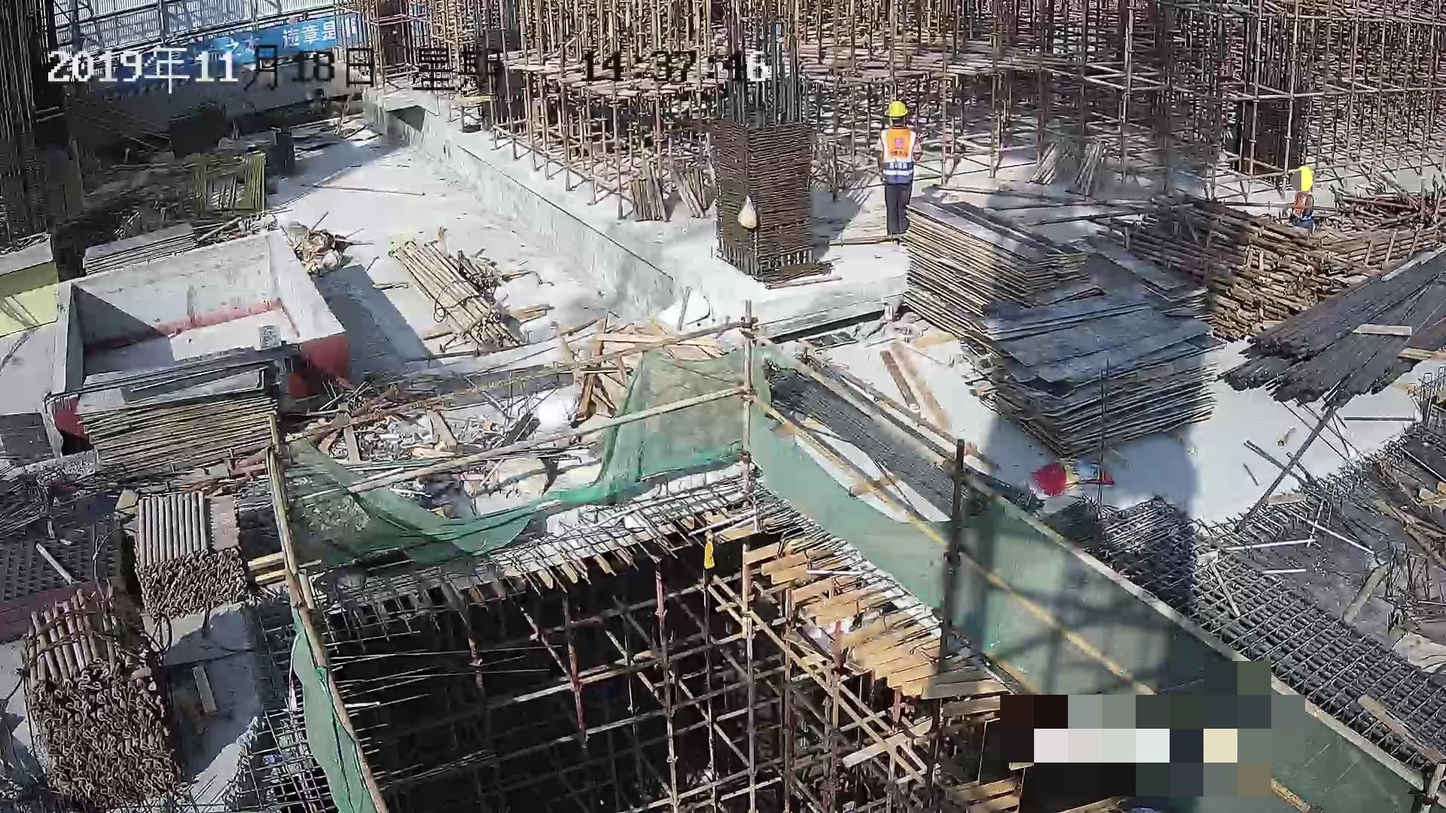hat: (1290, 163, 1315, 187), (886, 101, 909, 125)
person: (874, 101, 927, 236), (1286, 158, 1319, 230)
